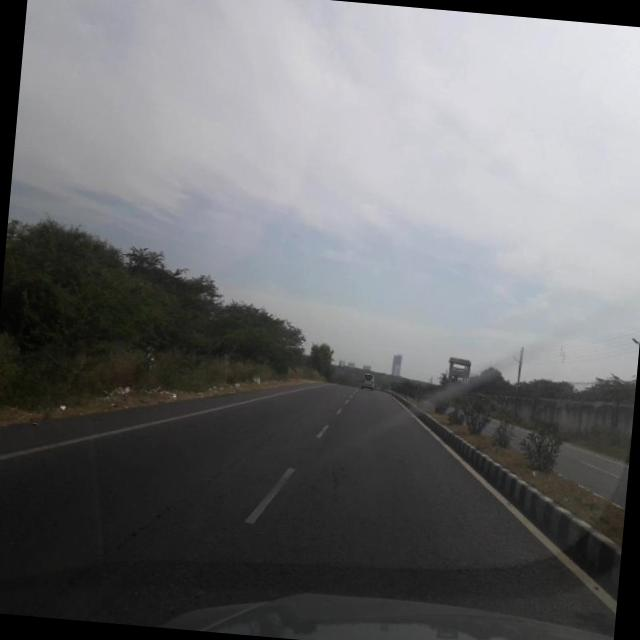pothole: (44, 394, 294, 624), (296, 439, 350, 529)
